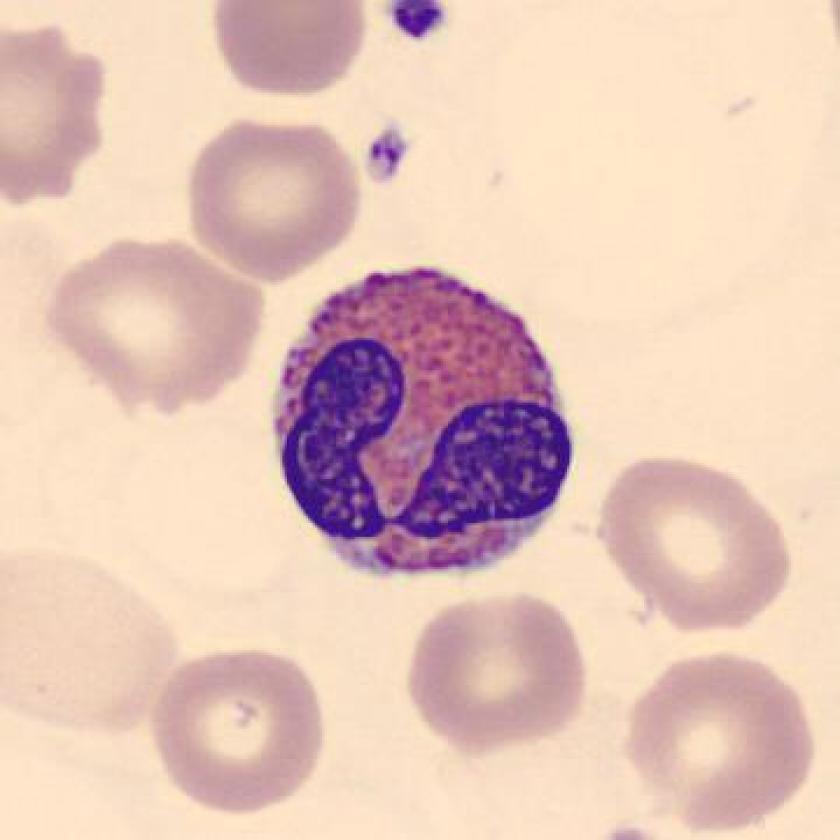eosinophil: (255, 258, 589, 589)
